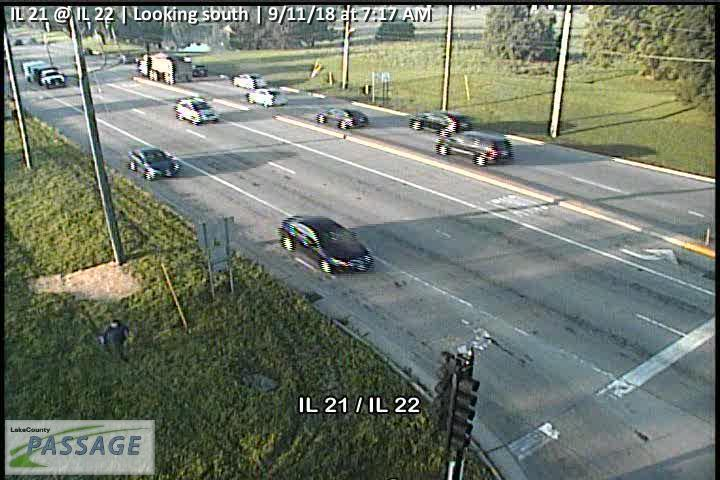SUV: (436, 130, 515, 166), (409, 110, 471, 135), (176, 98, 219, 125), (233, 73, 268, 88)
Sedan: (278, 215, 374, 274), (127, 147, 181, 181), (317, 107, 370, 129), (246, 87, 289, 107)
Truck: (137, 51, 194, 84), (21, 60, 66, 90)
